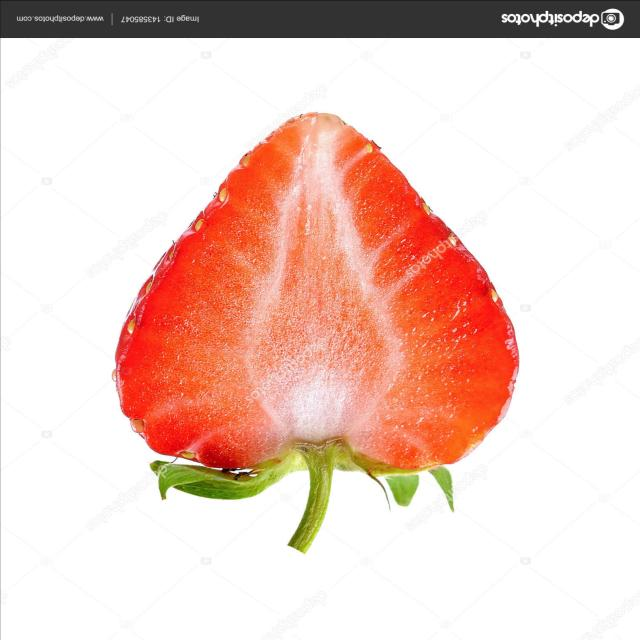strawberry: (109, 89, 560, 554)
